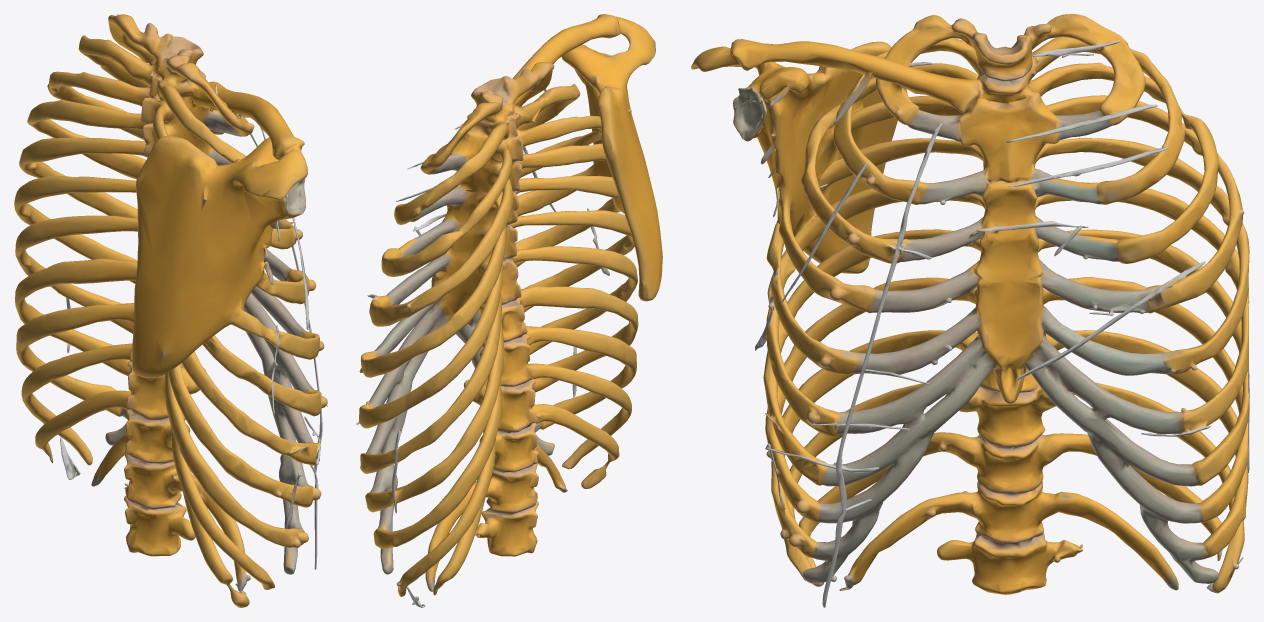
The model's file is ribcage.glb.
The picture shows the model from 3 angles, left to right: view 1: azimuth 30°, elevation 25°; view 2: azimuth 150°, elevation 25°; view 3: azimuth 270°, elevation 25°; orthographic projection. The views are drawn at different scales.
Parts seen in each view (by area): view 1: tripo_node_c782121c-7465-483e-bf51-fe4fb2722601; view 2: tripo_node_c782121c-7465-483e-bf51-fe4fb2722601; view 3: tripo_node_c782121c-7465-483e-bf51-fe4fb2722601.
Boxes of the visible parts, x1,y1,x2,y2 form: tripo_node_c782121c-7465-483e-bf51-fe4fb2722601: [14, 14, 327, 607]; tripo_node_c782121c-7465-483e-bf51-fe4fb2722601: [356, 14, 662, 607]; tripo_node_c782121c-7465-483e-bf51-fe4fb2722601: [691, 14, 1249, 607].
Bounding box in the file's own units: 0.3762 × 0.9991 × 0.8868.
Materials: 1 (1 with a texture image).
